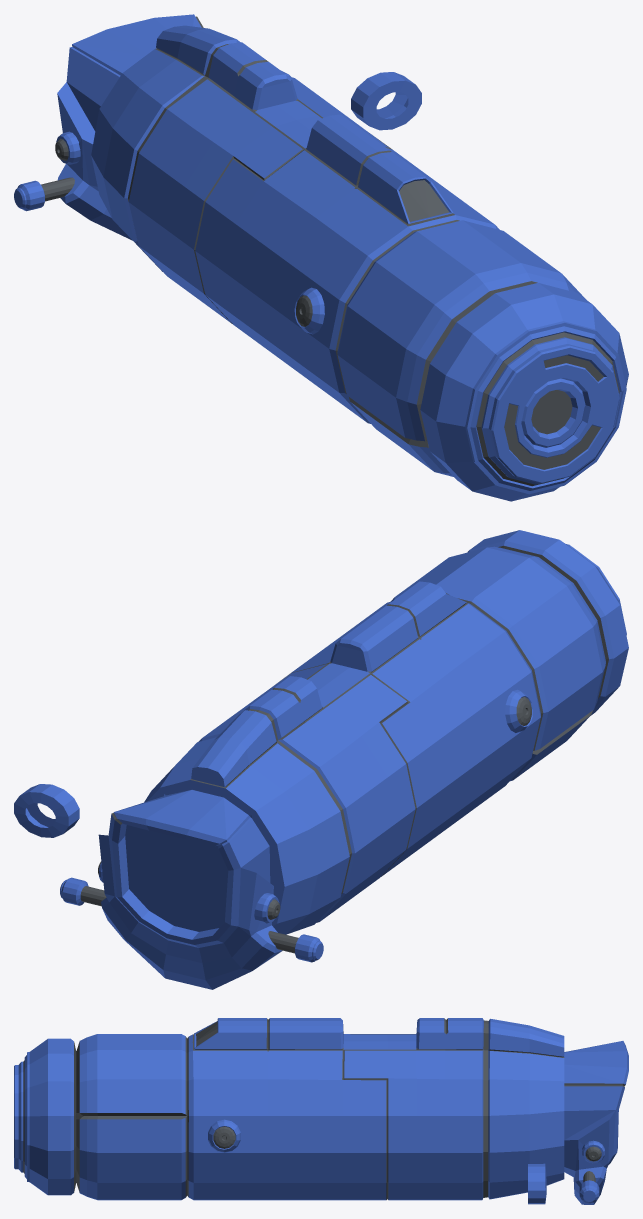
The model's file is Personal_Vehicle_04_Base_Body_Blue.fbx.
The picture shows the model from 3 angles, top to bottom: view 1: azimuth 30°, elevation 25°; view 2: azimuth 150°, elevation 25°; view 3: azimuth 270°, elevation 25°; orthographic projection. The views are drawn at different scales.
Visible parts, largest first — view 1: Personal_Vehicle_04_Base_Body_Blue; view 2: Personal_Vehicle_04_Base_Body_Blue; view 3: Personal_Vehicle_04_Base_Body_Blue.
Part boxes in pixels (x1=…): Personal_Vehicle_04_Base_Body_Blue: x1=14, y1=14, x2=628, y2=501; Personal_Vehicle_04_Base_Body_Blue: x1=14, y1=530, x2=628, y2=989; Personal_Vehicle_04_Base_Body_Blue: x1=14, y1=1018, x2=628, y2=1204.
Bounding box in the file's own units: 130 × 83.58 × 266.
Materials: 2 (2 with a texture image).
